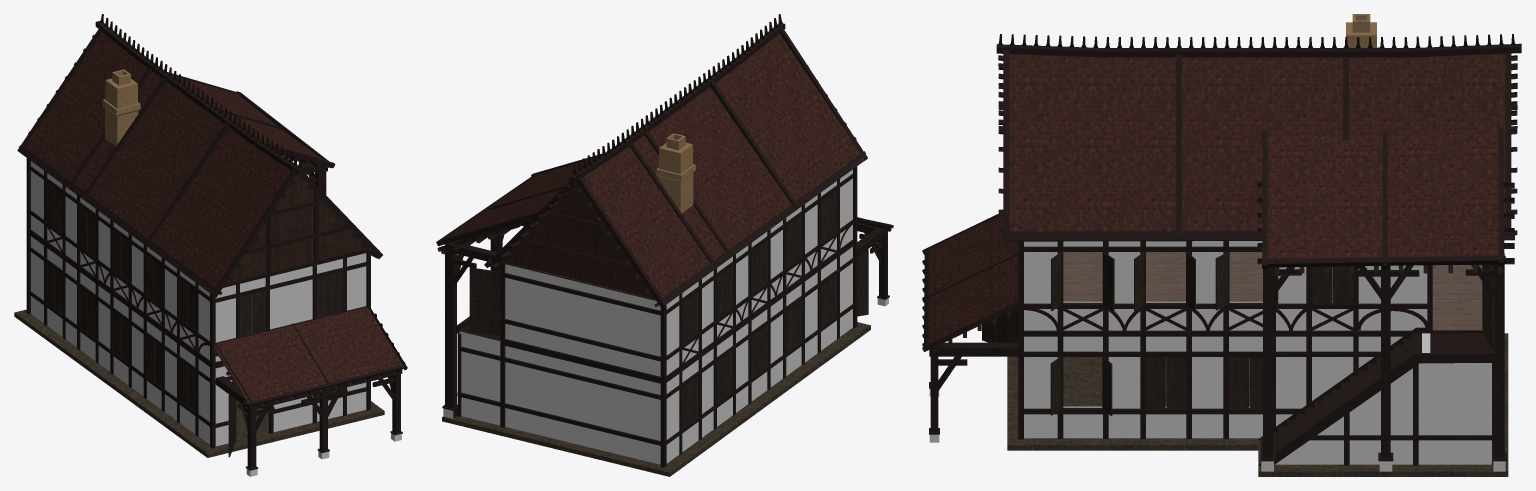
File: medievalHouse.fbx
The picture shows the model from 3 angles, left to right: view 1: azimuth 30°, elevation 25°; view 2: azimuth 150°, elevation 25°; view 3: azimuth 270°, elevation 25°; orthographic projection. The views are drawn at different scales.
Visible parts, largest first — view 1: HouseRoof, HouseWood, HouseWall, HouseWoodTriangles, HouseFloor1, HouseChimney, window19Right, window18Right, window18Left, window19Left, doorFront; view 2: HouseWall, HouseWood, HouseRoof, HouseWoodTriangles, HouseFloor1, HouseChimney, doorSide, doorFront; view 3: HouseRoof, HouseWood, HouseWall, HouseFloor1, HouseFloor2, window06Right, window06Left, window07Left, doorFront, HouseChimney, doorSide, window03Left (+5 smaller).
Part boxes in pixels (left/top/right/bottom): HouseRoof: left=25, top=32, right=401, bottom=405; HouseWood: left=17, top=14, right=407, bottom=470; HouseWall: left=31, top=161, right=401, bottom=476; HouseWoodTriangles: left=86, top=33, right=371, bottom=282; HouseFloor1: left=14, top=309, right=384, bottom=457; HouseChimney: left=102, top=69, right=140, bottom=145; window19Right: left=329, top=272, right=343, bottom=314; window18Right: left=253, top=290, right=265, bottom=333; window18Left: left=240, top=294, right=252, bottom=336; window19Left: left=317, top=275, right=329, bottom=317; doorFront: left=226, top=394, right=235, bottom=457; HouseWall: left=443, top=169, right=888, bottom=464; HouseWood: left=436, top=14, right=893, bottom=467; HouseRoof: left=447, top=33, right=867, bottom=297; HouseWoodTriangles: left=504, top=36, right=785, bottom=298; HouseFloor1: left=442, top=322, right=870, bottom=476; HouseChimney: left=656, top=133, right=695, bottom=213; doorSide: left=469, top=267, right=500, bottom=335; doorFront: left=857, top=249, right=868, bottom=316; HouseRoof: left=928, top=53, right=1505, bottom=343; HouseWood: left=922, top=34, right=1521, bottom=465; HouseWall: left=929, top=241, right=1505, bottom=471; HouseFloor1: left=1007, top=333, right=1508, bottom=476; HouseFloor2: left=1063, top=252, right=1482, bottom=330; window06Right: left=1166, top=357, right=1186, bottom=408; window06Left: left=1146, top=357, right=1165, bottom=408; window07Left: left=1229, top=357, right=1248, bottom=408; doorFront: left=982, top=311, right=1018, bottom=342; HouseChimney: left=1343, top=14, right=1379, bottom=47; doorSide: left=1482, top=265, right=1494, bottom=350; window03Left: left=1215, top=252, right=1229, bottom=310.
Size of the model in its own units: 534 by 638 by 945.
